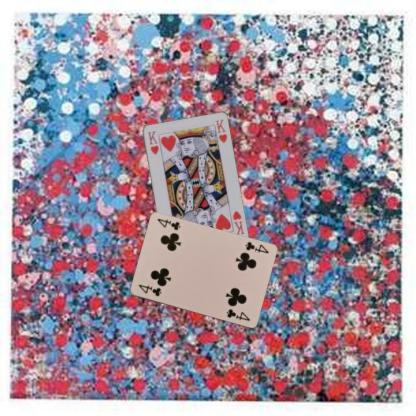4c: (242, 239, 270, 255), (136, 282, 163, 298)
Kh: (145, 128, 160, 157), (230, 208, 245, 236)
